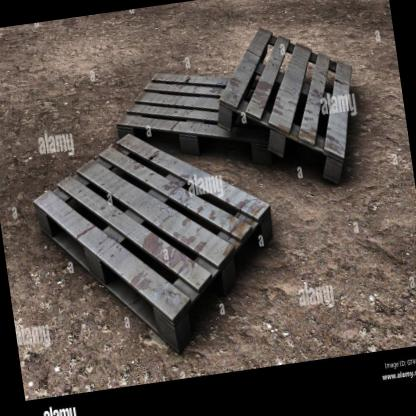BoxFace: (34, 133, 277, 359), (216, 24, 353, 184)
